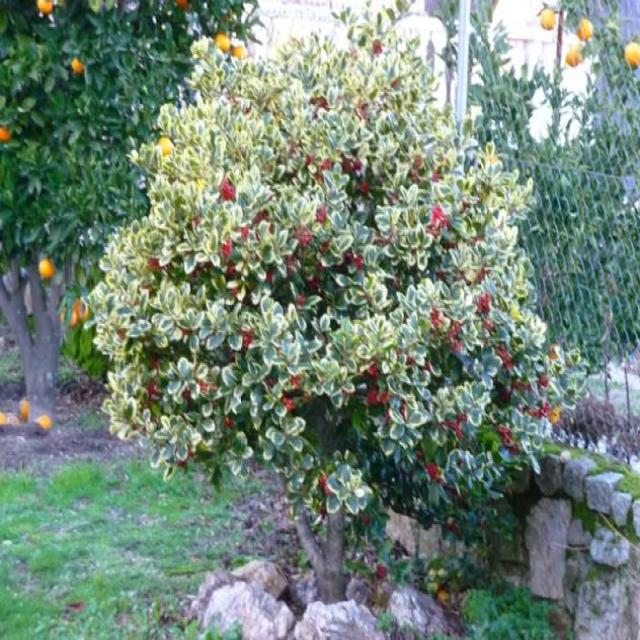acebo: (85, 34, 567, 608)
